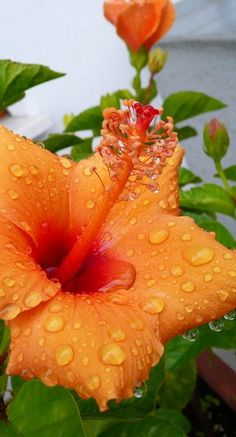Hibiscus: (1, 106, 234, 406), (92, 1, 178, 88), (195, 111, 229, 172)
